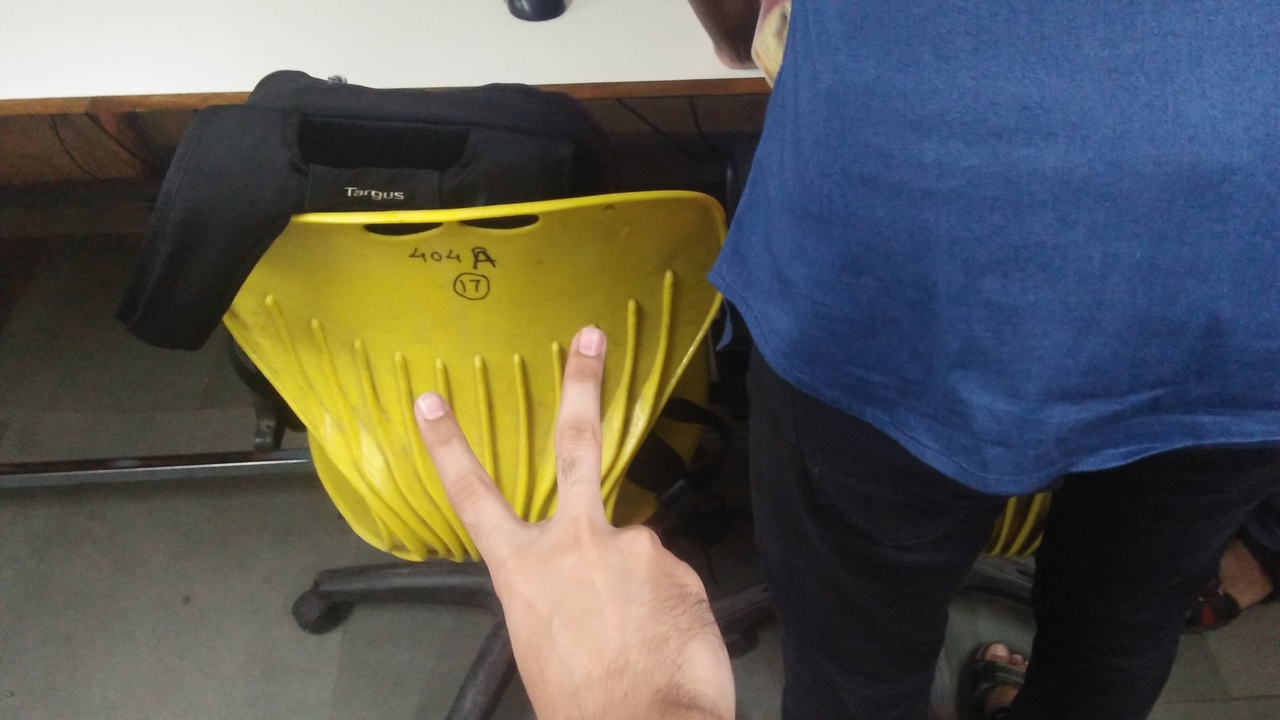fingertip: (400, 380, 462, 444), (554, 318, 610, 374)
